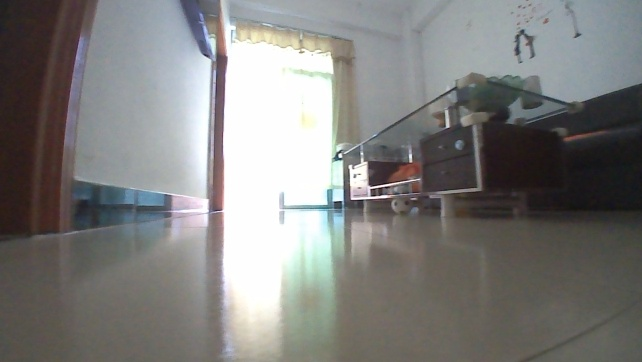sofe1: (523, 81, 641, 215)
tea_table: (336, 68, 585, 220)
